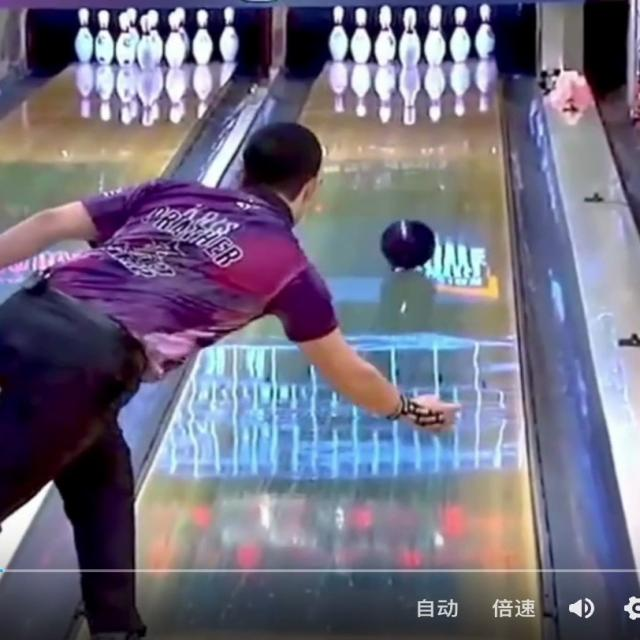alley: (139, 60, 539, 639)
balls: (381, 220, 434, 270)
bottle: (329, 5, 448, 68), (449, 6, 470, 62), (474, 4, 494, 59)
